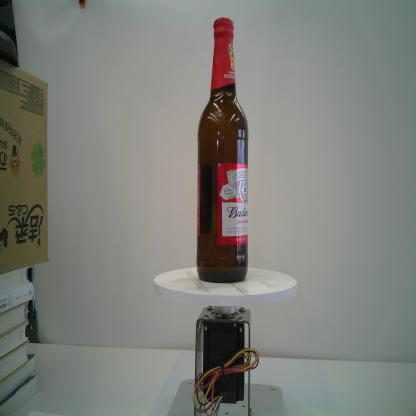Alcohol: (195, 15, 250, 285)
